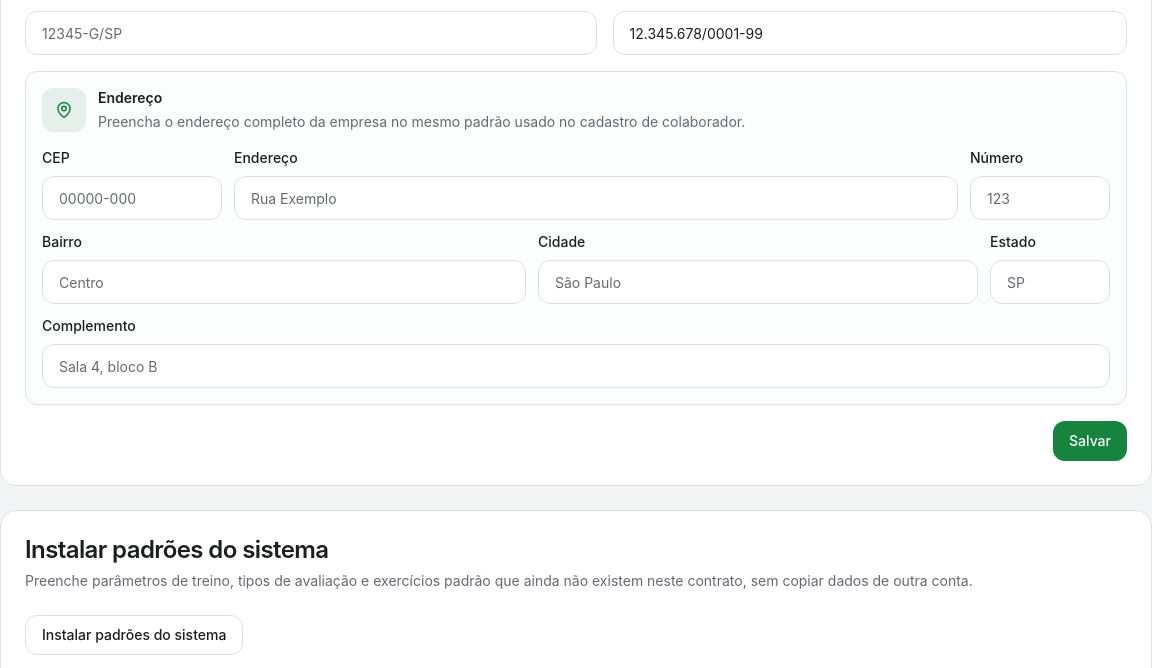
ContractSettings install product defaults › mostra erro no card quando a API resolve sem os dados da instalação
(page scrolled)
What coordinates should you click on to do the following:
click the button "Instalar padrões do sistema"
I would click on:
 (134, 635)
Its box is [25,615,243,655].
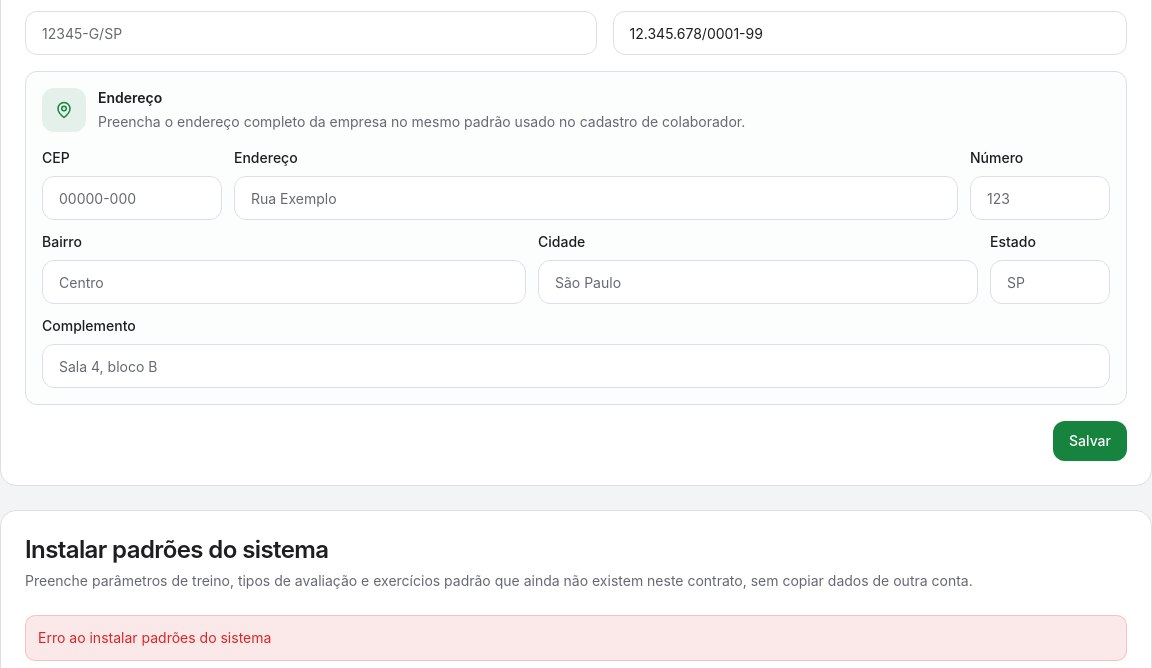
Check: the text "Erro ao instalar padrões do sistema" is shown, box [25,615,1127,661]
